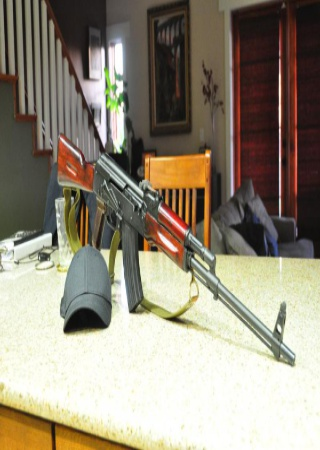rifle: (50, 119, 299, 369)
